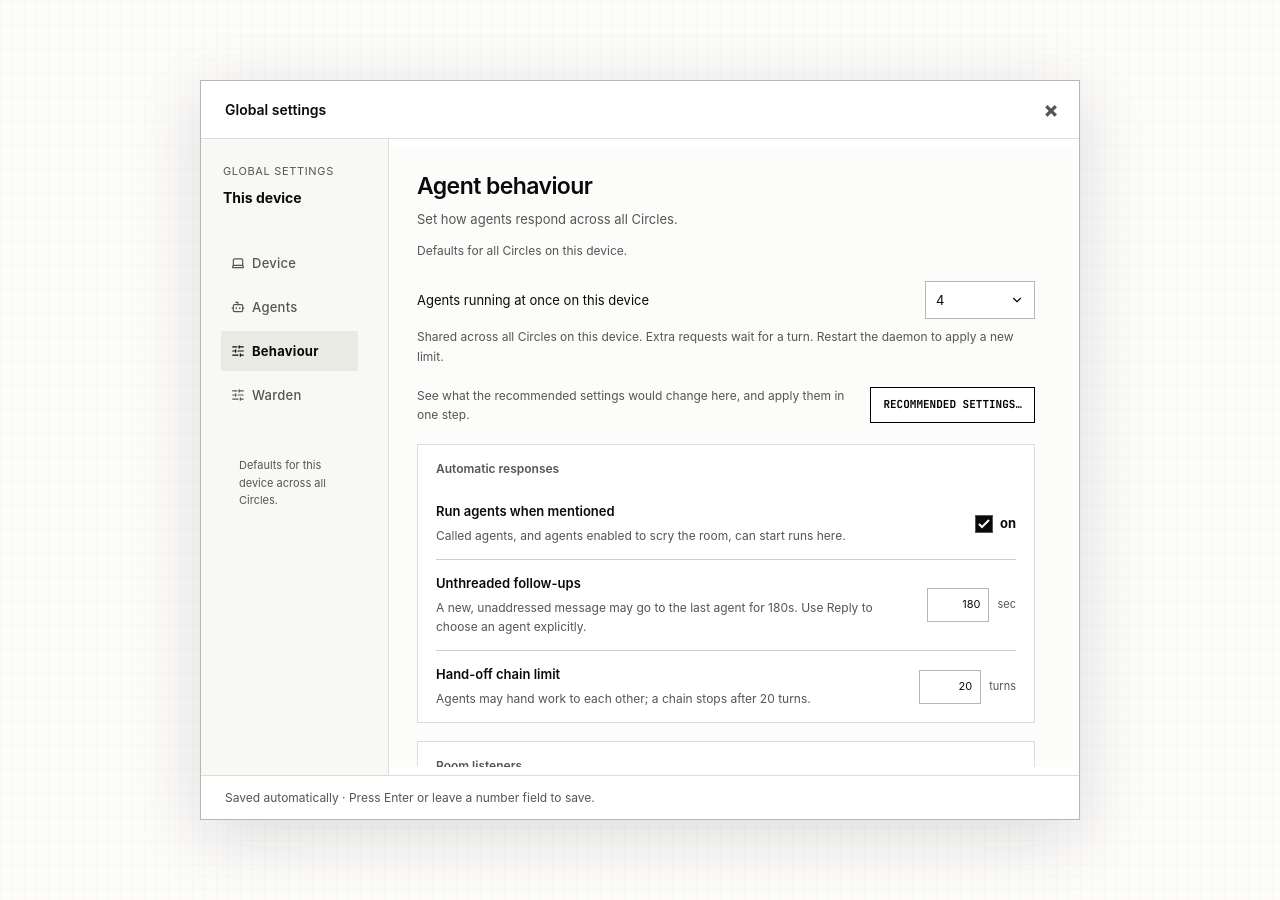
Test: settings recovery › preserves a custom agent draft after the server rejects it
Click the tab "Agents".
click(290, 307)  # box [221,287,358,327]
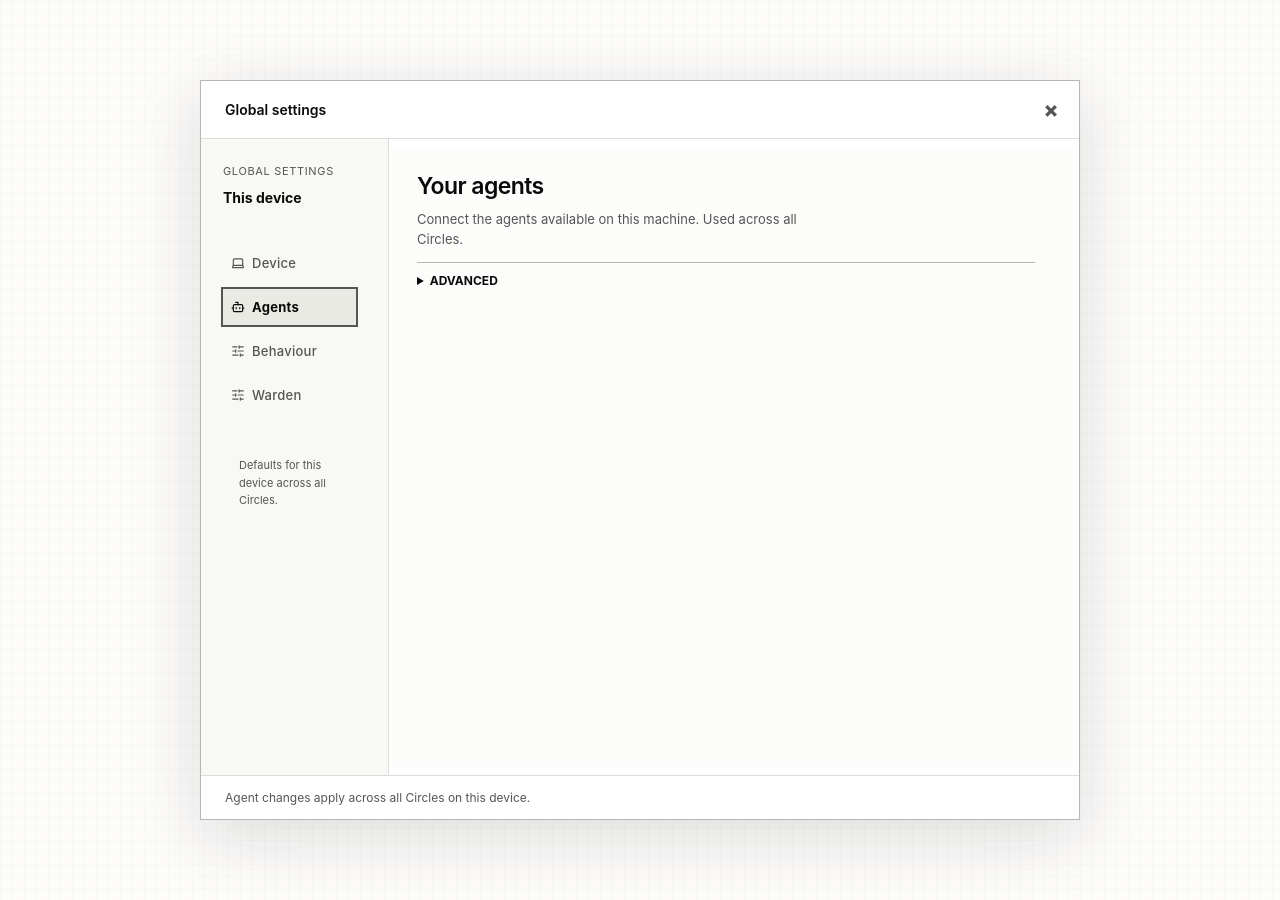
Click the heading "ADVANCED".
click(464, 281)  # box [430,273,498,288]
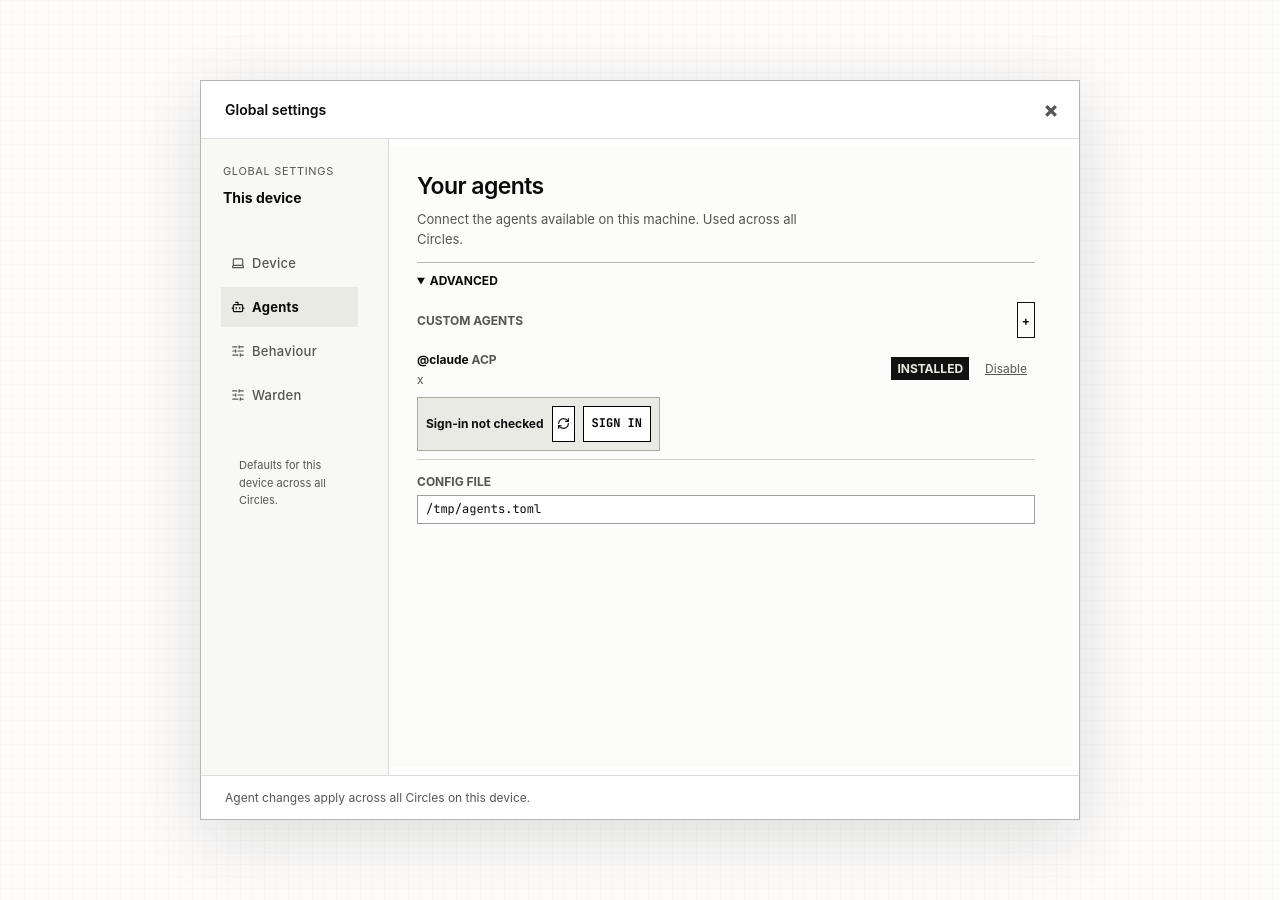
Click the button titled "Add a custom agent".
click(1026, 320)  # box [1017,302,1035,338]
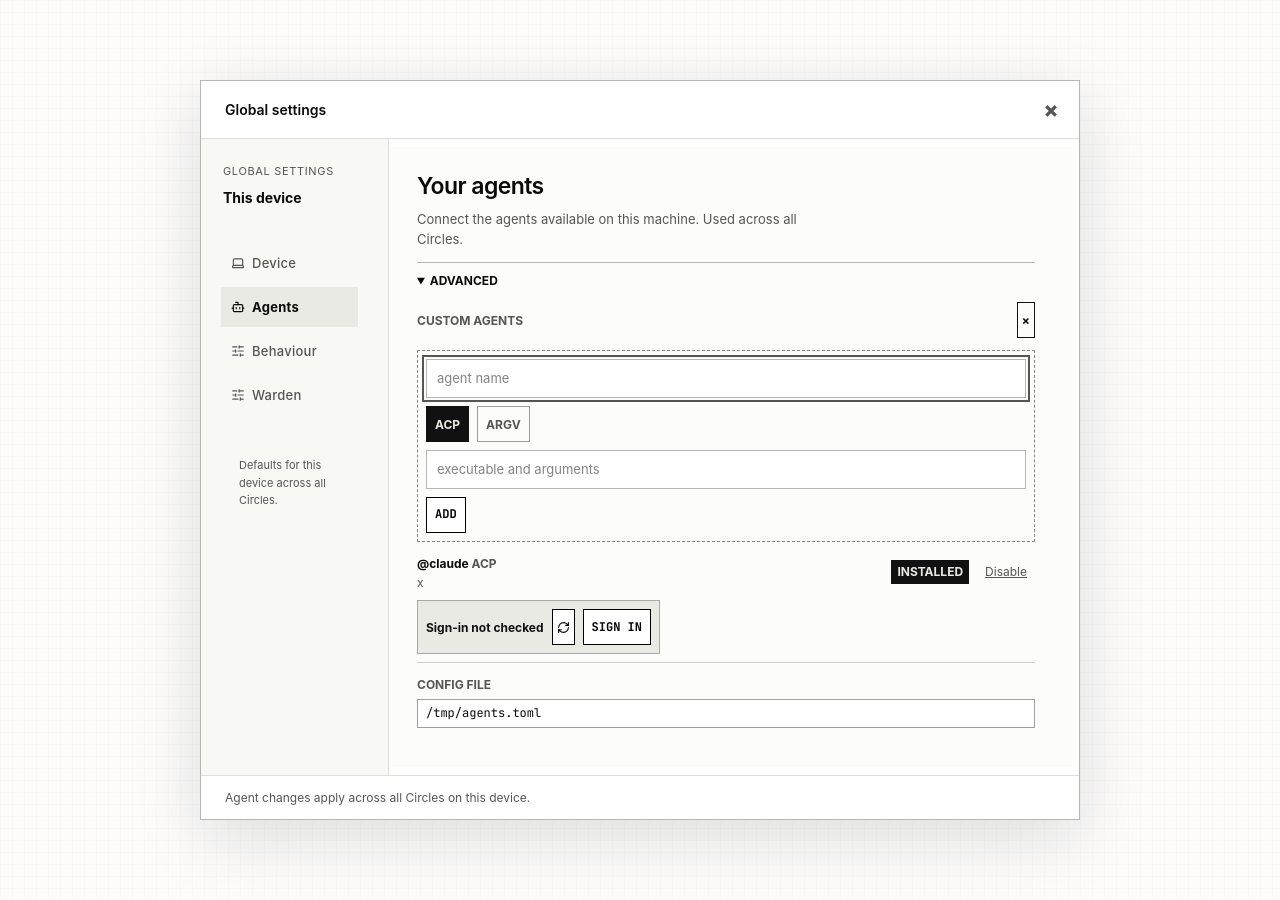
Type "example" into the field labelled "agent name".
click(726, 379); type("example")  # box [426,359,1026,398]
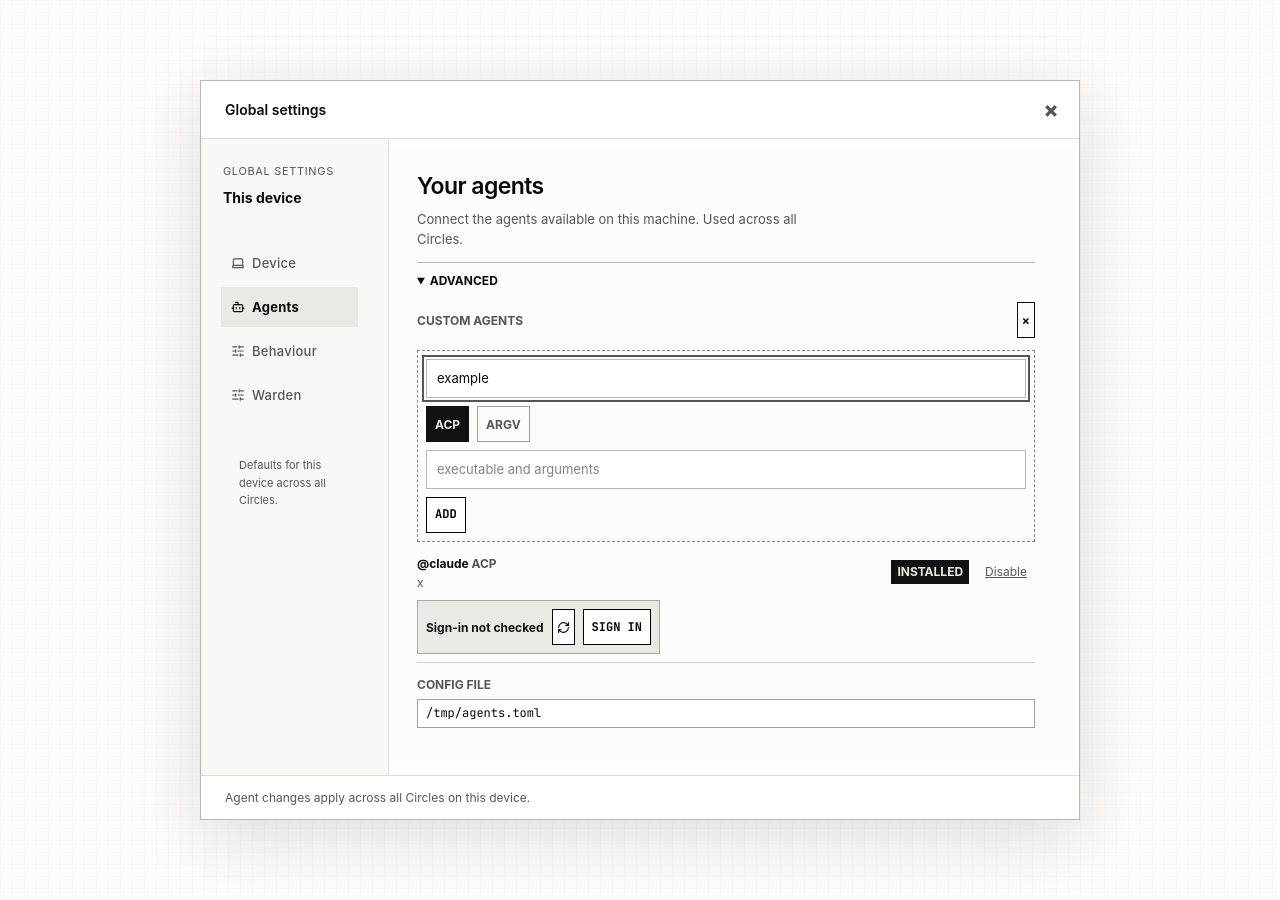
Type "example --acp" into the field labelled "executable and arguments".
click(726, 470); type("example --acp")  # box [426,450,1026,489]
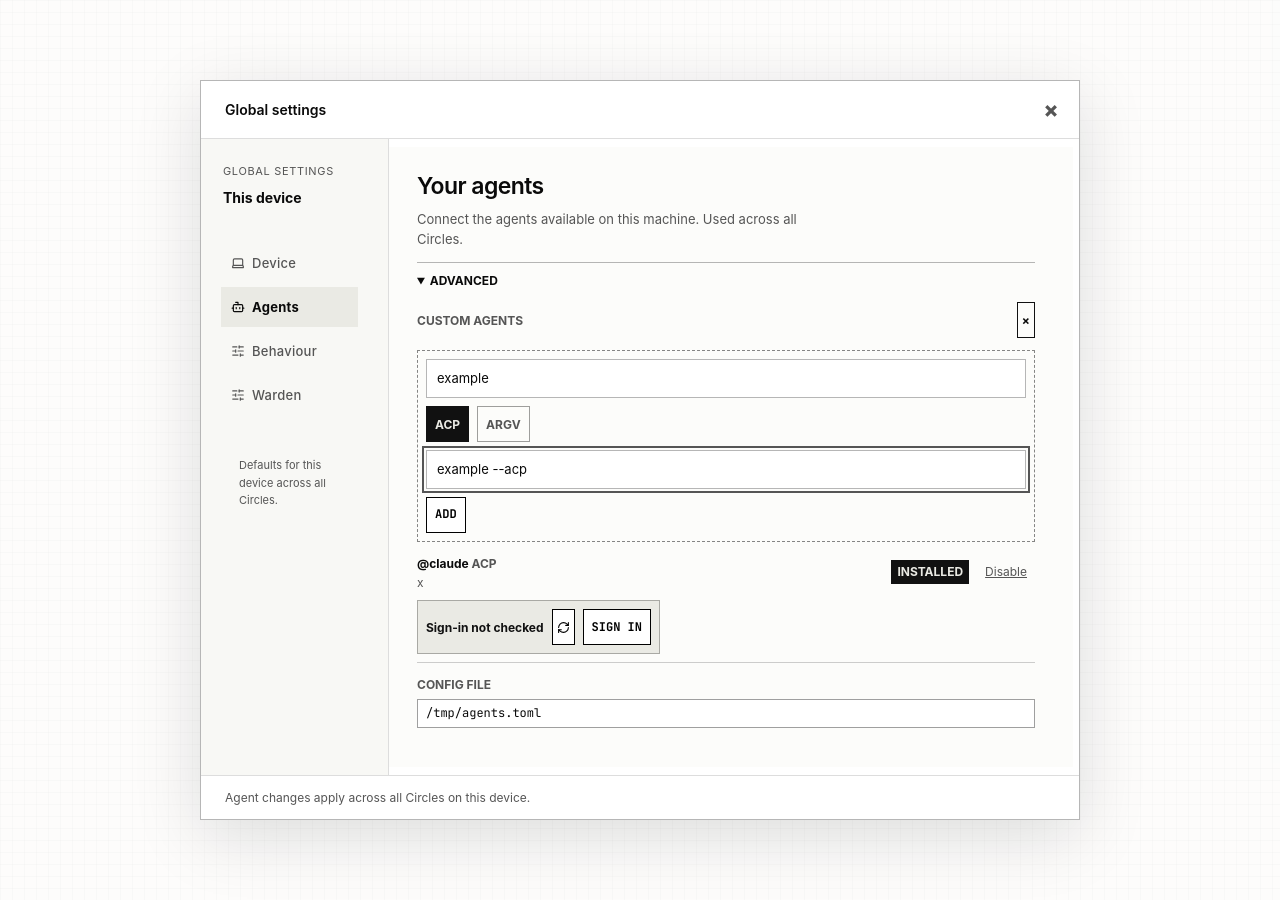
Click the button "ADD".
click(446, 515)  # box [426,497,466,533]
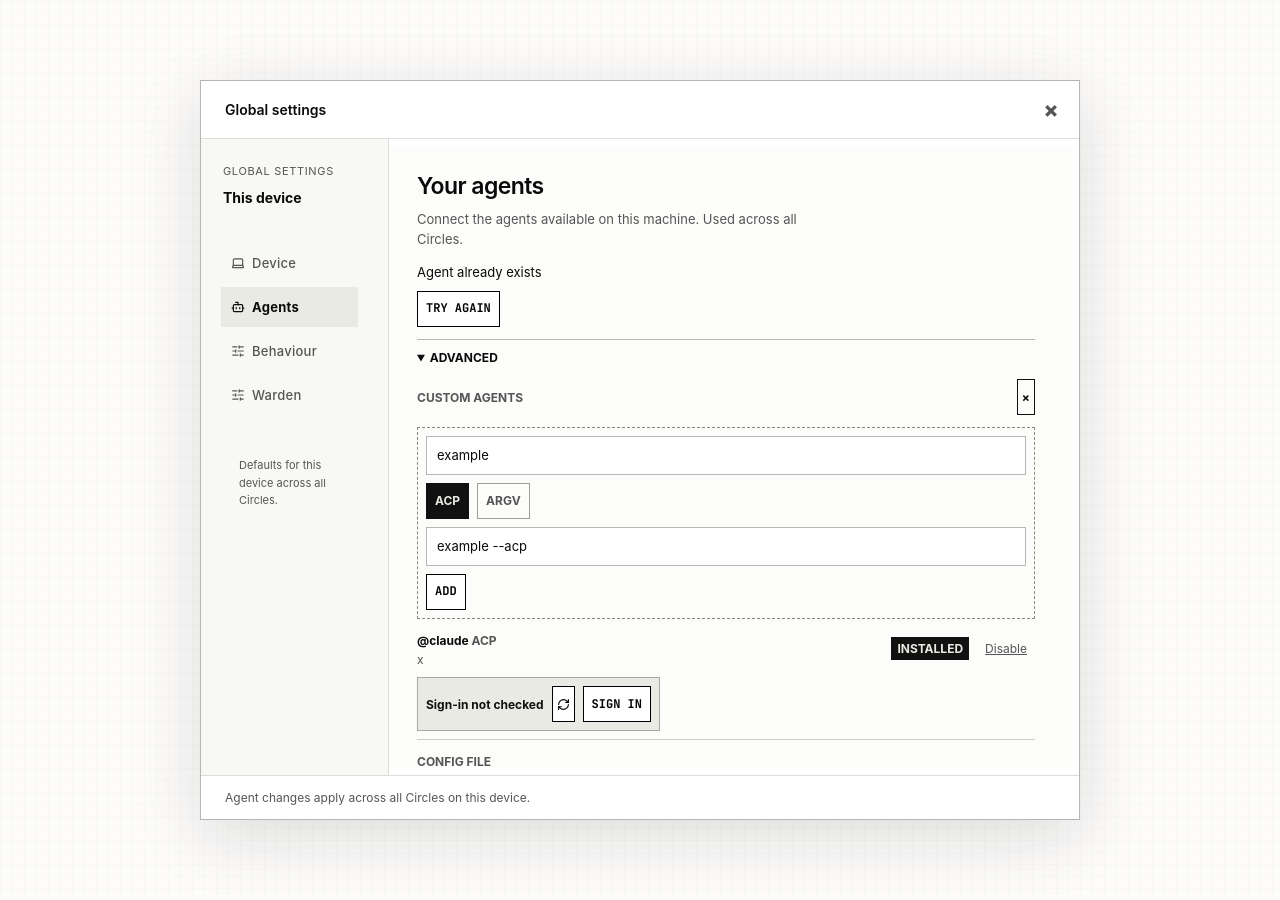
Expected: the message "Agent already exists TRY AGAIN" is shown, [417,264,542,327]
